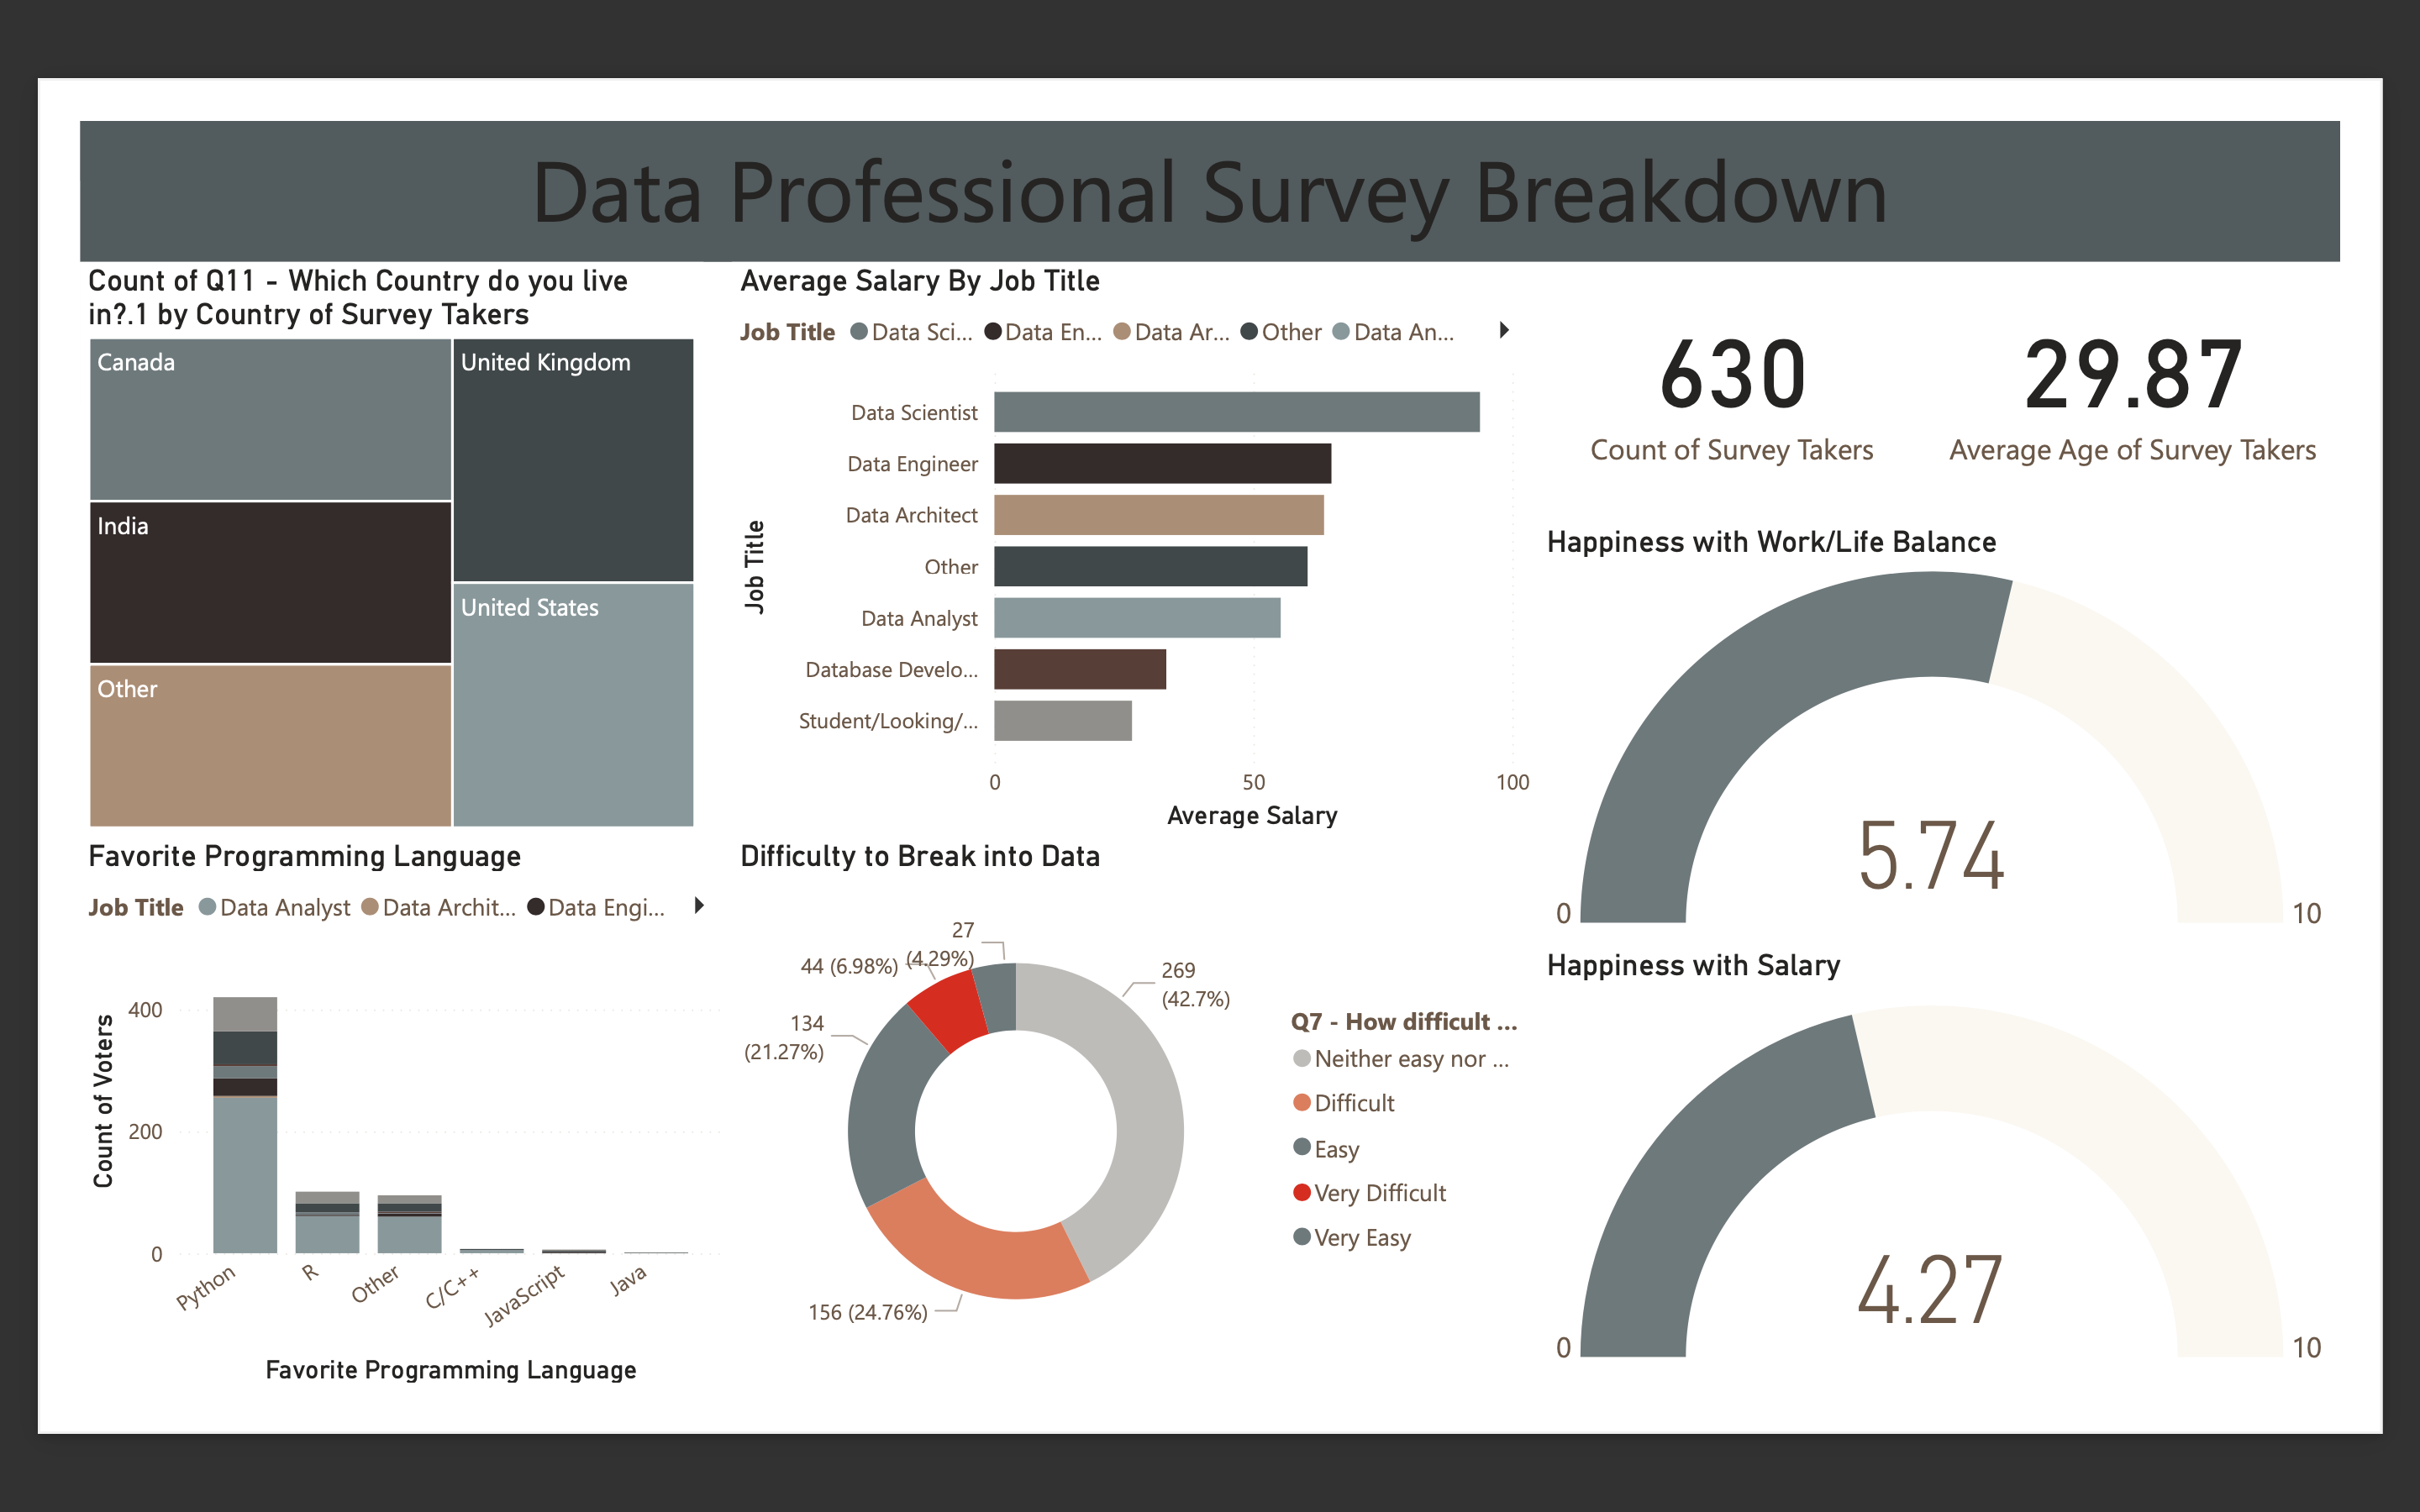

The page's visual inventory and layout, read from the dashboard file:
{"tool":"powerbi","page":{"name":"Page 1","canvas":[1280,720],"ordinal":0},"visuals":[{"type":"textbox","box":[35,331,300,300],"z":0},{"type":"textbox","box":[0,0,1280.3,79.6],"z":1000},{"type":"card","fields":{"Values":["CountNonNull(Data Professional Survey.Unique ID)"]},"box":[826.1,79.6,219.6,134.5],"z":2000},{"type":"card","fields":{"Values":["Avg(Data Professional Survey.Q10 - Current Age)"]},"box":[1045.6,79.6,234.6,134.5],"z":3000},{"type":"barChart","title":"Average Salary By Job Title","fields":{"Category":["Data Professional Survey.Q1 - Which Title Best Fits your Current Role?.1"],"Y":["Avg(Data Professional Survey.Average Salary)"],"Series":["Data Professional Survey.Q1 - Which Title Best Fits your Current Role?.1"]},"box":[369.1,79.6,456.9,326.6],"z":4000},{"type":"columnChart","title":"Favorite Programming Language","fields":{"Category":["Data Professional Survey.Q5 - Favorite Programming Language.1"],"Y":["CountNonNull(Data Professional Survey.Unique ID)"],"Series":["Data Professional Survey.Q1 - Which Title Best Fits your Current Role?.1"]},"box":[0,406.2,369.1,314.2],"z":5000},{"type":"treemap","fields":{"Group":["Data Professional Survey.Q11 - Which Country do you live in?.1"],"Values":["Count(Data Professional Survey.Q11 - Which Country do you live in?.1)"]},"box":[0,79.6,352.7,326.6],"z":6000},{"type":"gauge","title":"Happiness with Work/Life Balance","fields":{"Y":["Avg(Data Professional Survey.Q6 - How Happy are you in your Current Position with the following? (Work/Life Balance))"],"MinValue":["Min(Data Professional Survey.Q6 - How Happy are you in your Current Position with the following? (Work/Life Balance))"],"MaxValue":["Max(Data Professional Survey.Q6 - How Happy are you in your Current Position with the following? (Work/Life Balance))1"]},"box":[826.1,227.8,454.2,240.1],"z":6001},{"type":"gauge","title":"Happiness with Salary","fields":{"Y":["Avg(Data Professional Survey.Q6 - How Happy are you in your Current Position with the following? (Salary))"],"MinValue":["Min(Data Professional Survey.Q6 - How Happy are you in your Current Position with the following? (Salary))"],"MaxValue":["Max(Data Professional Survey.Q6 - How Happy are you in your Current Position with the following? (Salary))"]},"box":[826.1,467.9,454.2,252.5],"z":6002},{"type":"donutChart","title":"Difficulty to Break into Data","fields":{"Category":["Data Professional Survey.Q7 - How difficult was it for you to break into Data?"],"Y":["CountNonNull(Data Professional Survey.Q7 - How difficult was it for you to break into Data?)"]},"box":[369.1,406.2,456.9,314.2],"z":6003}]}

Visuals, with their boxes on the page's 1280x720 design canvas (x1, y1, x2, y2). These are canvas units, not pixel positions in the 2420x1512 screenshot, which may show the page scaled, cropped or inside an application window:
textbox: x1=35, y1=331, x2=335, y2=631
textbox: x1=0, y1=0, x2=1280, y2=80
card - CountNonNull(Data Professional Survey.Unique ID): x1=826, y1=80, x2=1046, y2=214
card - Avg(Data Professional Survey.Q10 - Current Age): x1=1046, y1=80, x2=1280, y2=214
"Average Salary By Job Title" barChart: x1=369, y1=80, x2=826, y2=406
"Favorite Programming Language" columnChart: x1=0, y1=406, x2=369, y2=720
treemap - Data Professional Survey.Q11 - Which Country do you live in?.1 x Count(Data Professional Survey.Q11 - Which Country do you live in?.1): x1=0, y1=80, x2=353, y2=406
"Happiness with Work/Life Balance" gauge: x1=826, y1=228, x2=1280, y2=468
"Happiness with Salary" gauge: x1=826, y1=468, x2=1280, y2=720
"Difficulty to Break into Data" donutChart: x1=369, y1=406, x2=826, y2=720
